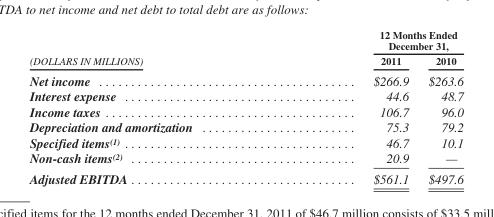table: (28, 28, 463, 185)
table column: (28, 28, 282, 185), (282, 28, 417, 185), (417, 28, 463, 185)
table column header: (28, 28, 463, 69)
table row: (28, 28, 463, 52), (28, 69, 463, 88), (28, 150, 463, 168), (28, 52, 463, 69), (28, 168, 463, 185), (28, 103, 463, 119), (28, 134, 463, 150), (28, 88, 463, 103), (28, 119, 463, 134)
table spanning cell: (28, 28, 282, 69), (282, 28, 463, 52)
